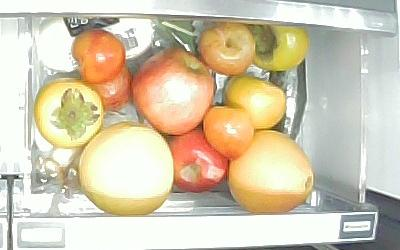apple: (130, 46, 217, 136), (162, 128, 229, 194)
grapefruit: (76, 120, 174, 216), (227, 129, 314, 213)
persimmon: (34, 78, 104, 148), (223, 75, 287, 131), (249, 25, 309, 71)
prune: (198, 21, 255, 77), (71, 29, 126, 84), (202, 104, 255, 160), (83, 62, 133, 113)
